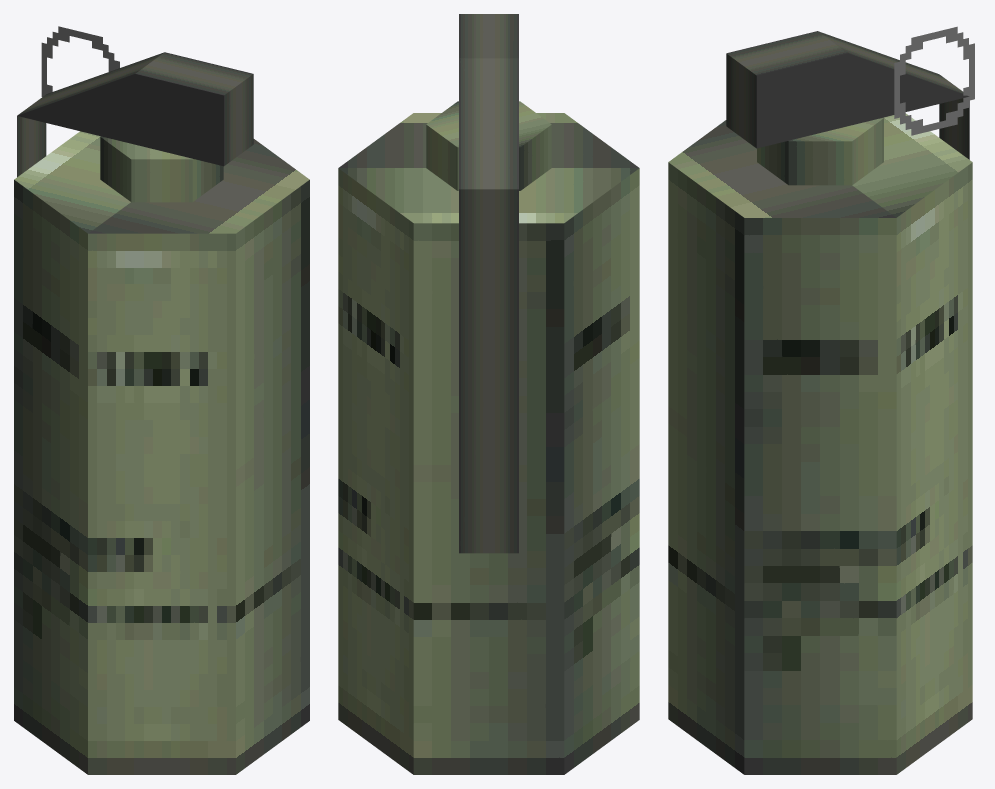
The model's file is recovered_gear_a_smoke_grenade_2ea67a028caa.glb.
3 views of the same model, side by side, from view 1: azimuth 30°, elevation 25°; view 2: azimuth 150°, elevation 25°; view 3: azimuth 270°, elevation 25° (orthographic). The views are drawn at different scales.
Parts seen in each view (by area): view 1: a_smoke_grenade; view 2: a_smoke_grenade; view 3: a_smoke_grenade.
Part boxes in pixels (x1,y1,x2,y2): a_smoke_grenade: [14, 26, 309, 774]; a_smoke_grenade: [338, 14, 639, 774]; a_smoke_grenade: [668, 26, 974, 774].
Bounding box in the file's own units: 0.0736 × 0.2097 × 0.0872.
2 materials, 2 textured.
